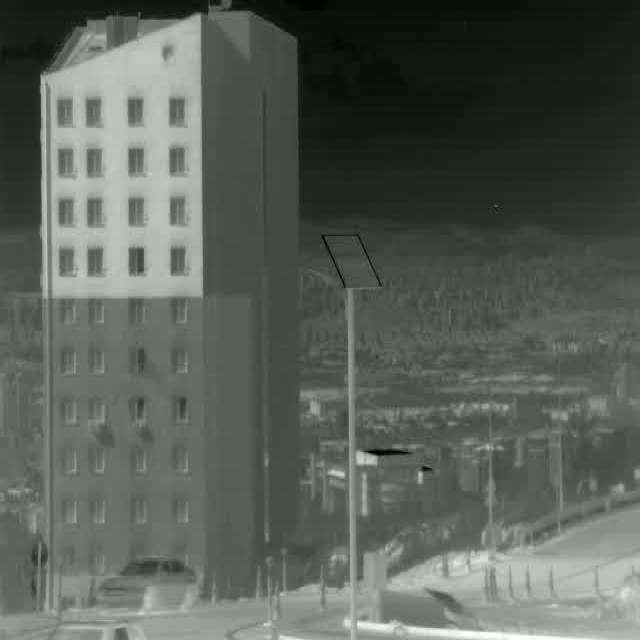Car: (96, 554, 200, 614)
